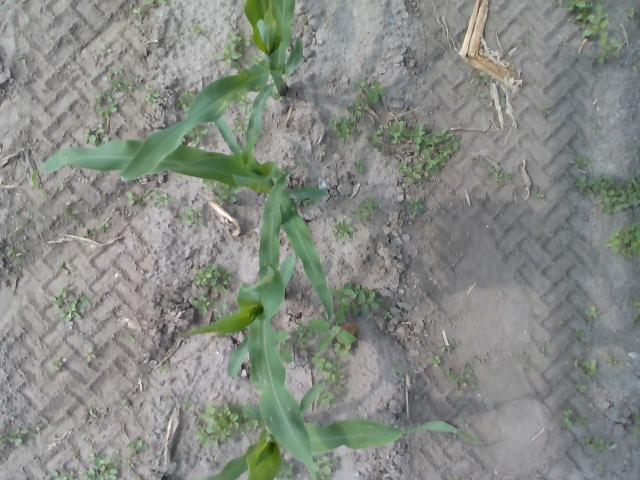Maize: (31, 116, 332, 329), (178, 161, 316, 480), (120, 0, 307, 181), (204, 378, 481, 480)
Weeds: (366, 121, 460, 184), (556, 0, 622, 65), (326, 78, 386, 144), (574, 171, 640, 217), (194, 400, 245, 448), (310, 310, 358, 350), (332, 280, 386, 314), (49, 284, 91, 326), (215, 28, 254, 70), (600, 221, 640, 259), (312, 351, 346, 392), (192, 264, 234, 294), (441, 364, 482, 393), (82, 450, 119, 480), (200, 179, 240, 206), (126, 188, 172, 208), (350, 198, 379, 226), (189, 294, 221, 317), (94, 89, 120, 117), (573, 357, 599, 384), (109, 68, 136, 93), (0, 426, 29, 449), (278, 328, 296, 364), (162, 394, 197, 412), (314, 457, 341, 480), (232, 100, 250, 134), (580, 434, 612, 453), (487, 165, 512, 188), (562, 408, 592, 426), (84, 122, 106, 146), (294, 320, 314, 346), (334, 218, 356, 241), (178, 205, 202, 226), (126, 438, 150, 456), (472, 71, 487, 99), (404, 195, 424, 215), (176, 88, 194, 110), (122, 455, 142, 474), (188, 126, 208, 145), (49, 468, 78, 480), (142, 85, 160, 104), (514, 351, 532, 368), (584, 305, 600, 324), (333, 342, 353, 357), (188, 23, 205, 40), (214, 302, 231, 319), (281, 457, 294, 479), (82, 407, 101, 422), (130, 5, 146, 22), (49, 358, 66, 374), (630, 412, 640, 439), (352, 159, 368, 175), (604, 351, 620, 367), (392, 358, 408, 374), (318, 390, 334, 406), (7, 243, 20, 262), (530, 188, 546, 203), (594, 462, 608, 478), (56, 260, 70, 276), (64, 206, 80, 219), (574, 154, 588, 168), (158, 361, 173, 374), (540, 103, 553, 117), (82, 348, 95, 362), (427, 356, 442, 368), (245, 420, 261, 431), (40, 188, 54, 200), (146, 0, 169, 7), (102, 48, 115, 60), (302, 198, 320, 206), (574, 328, 586, 340), (120, 396, 131, 409), (474, 356, 488, 366), (272, 92, 284, 103), (574, 382, 587, 392), (628, 6, 636, 22), (442, 346, 453, 356), (99, 222, 110, 232), (540, 345, 548, 358), (522, 39, 532, 49), (478, 190, 488, 200), (58, 180, 66, 191), (384, 309, 392, 319), (73, 448, 80, 459), (631, 300, 640, 308), (128, 334, 136, 343), (304, 183, 314, 190), (498, 94, 506, 102), (36, 424, 44, 432), (559, 321, 564, 328)
